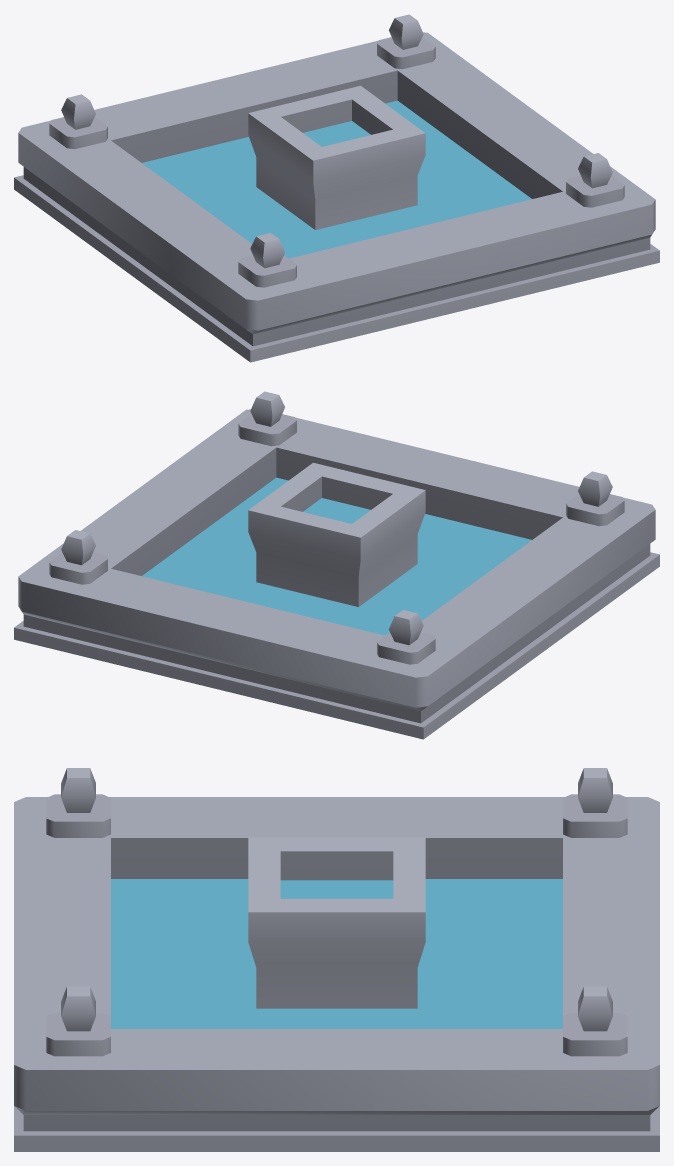
Rendered from fountain-square-detail.glb.
3 renders of one model, top to bottom at view 1: azimuth 30°, elevation 25°; view 2: azimuth 150°, elevation 25°; view 3: azimuth 270°, elevation 25°, orthographic. The views are drawn at different scales.
Parts seen in each view (by area): view 1: fountain-square-detail; view 2: fountain-square-detail; view 3: fountain-square-detail.
Part boxes in pixels (x1=…): fountain-square-detail: x1=14, y1=14, x2=659, y2=362; fountain-square-detail: x1=14, y1=391, x2=659, y2=739; fountain-square-detail: x1=14, y1=768, x2=659, y2=1151.
Size of the model in its own units: 2 by 0.48 by 2.
